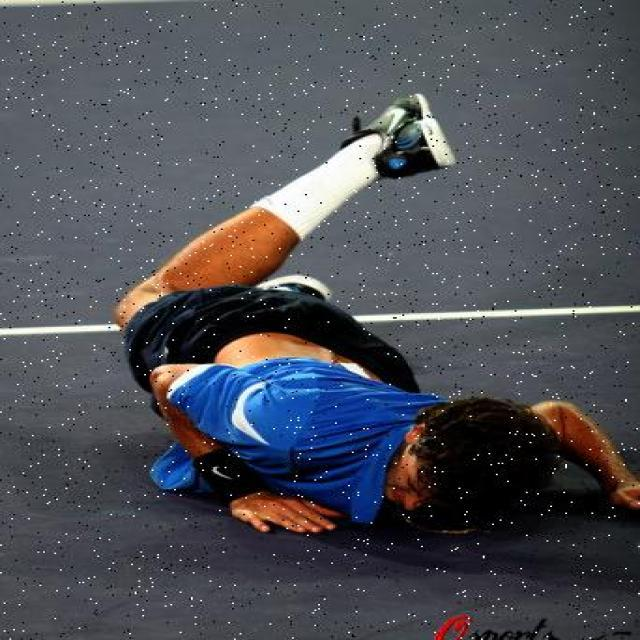fall: (113, 144, 622, 531)
